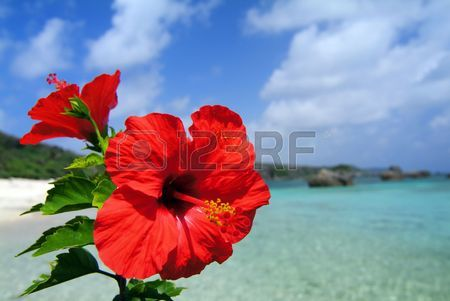Hibiscus: (98, 107, 274, 284), (21, 51, 133, 164)
